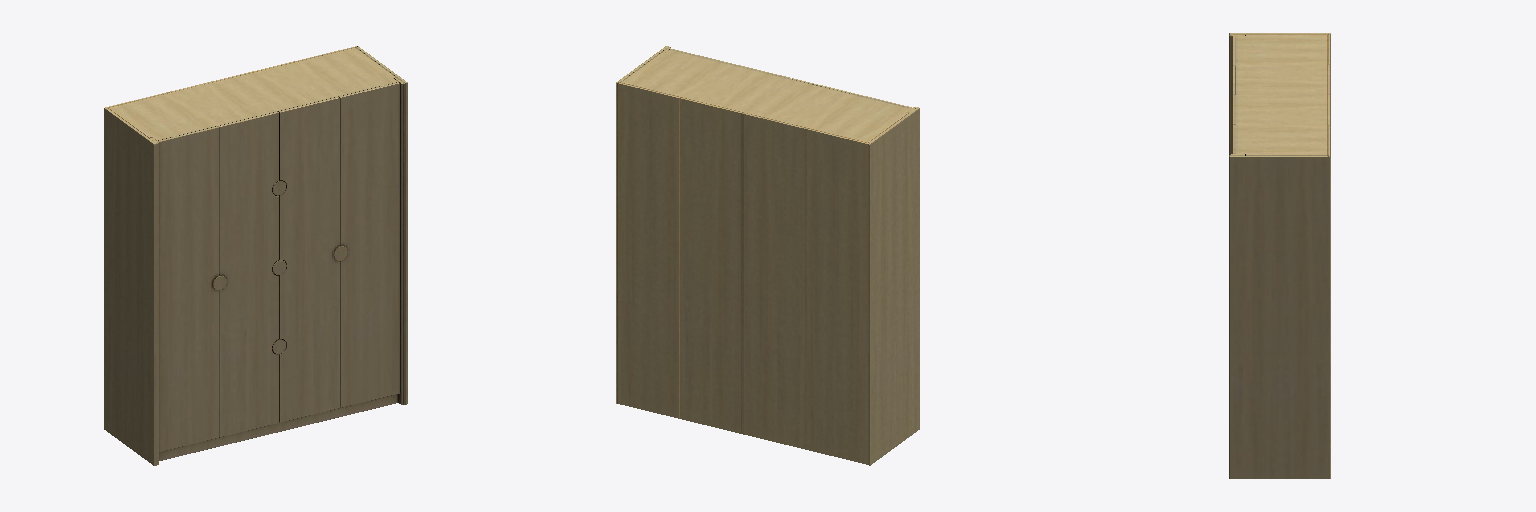
3 renders of one model, left to right at view 1: azimuth 30°, elevation 25°; view 2: azimuth 150°, elevation 25°; view 3: azimuth 270°, elevation 25°, orthographic.
Visible parts, largest first — view 1: Object02; view 2: Object02; view 3: Object02.
Boxes of the visible parts, x1=… form: Object02: x1=104, y1=46, x2=407, y2=465; Object02: x1=616, y1=46, x2=919, y2=465; Object02: x1=1229, y1=33, x2=1330, y2=478.
Bounding box in the file's own units: 180 × 218 × 62.01.
Materials: 1 (1 with a texture image).